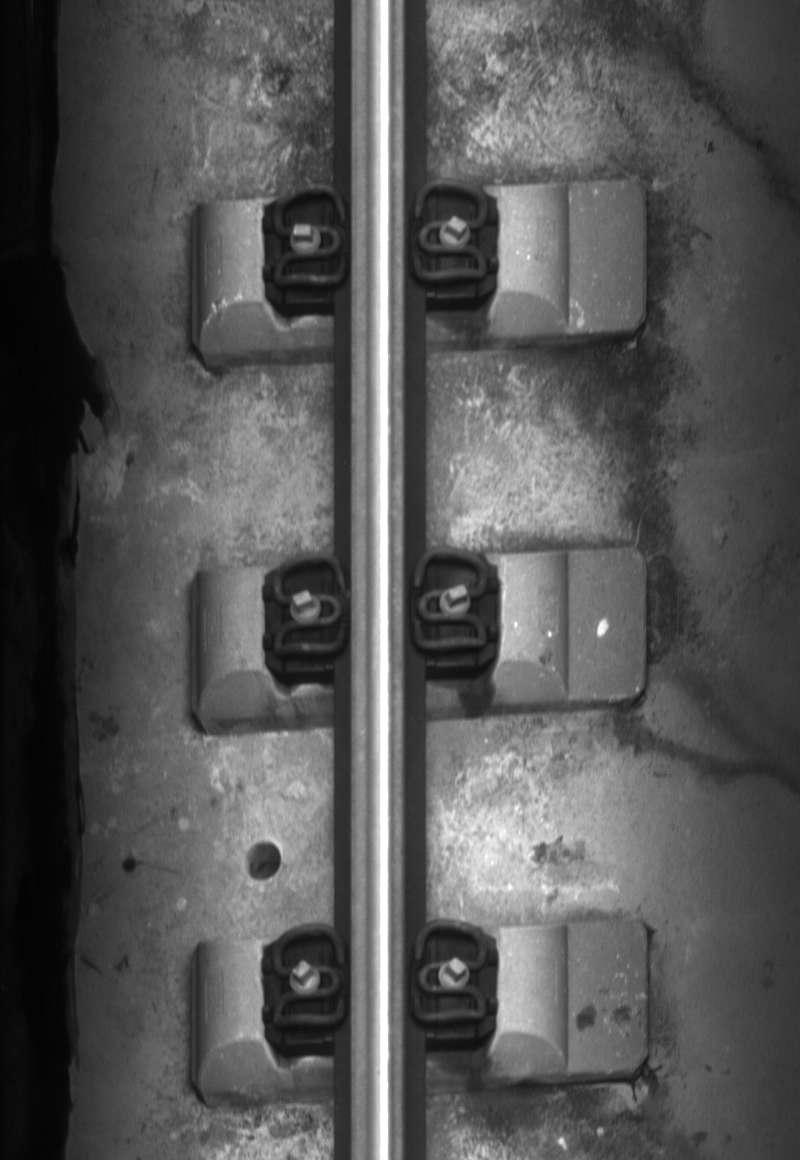l_faster: (267, 921, 350, 1036), (268, 180, 351, 294), (268, 551, 350, 661)
r_faster: (405, 546, 495, 664), (410, 177, 493, 288), (409, 917, 489, 1029)
